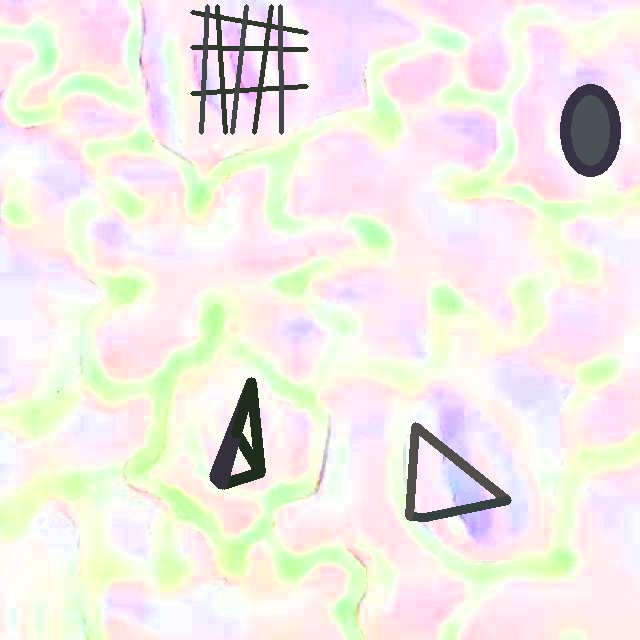open: (190, 5, 308, 133), (405, 422, 511, 521), (209, 378, 264, 488), (561, 84, 619, 175)
